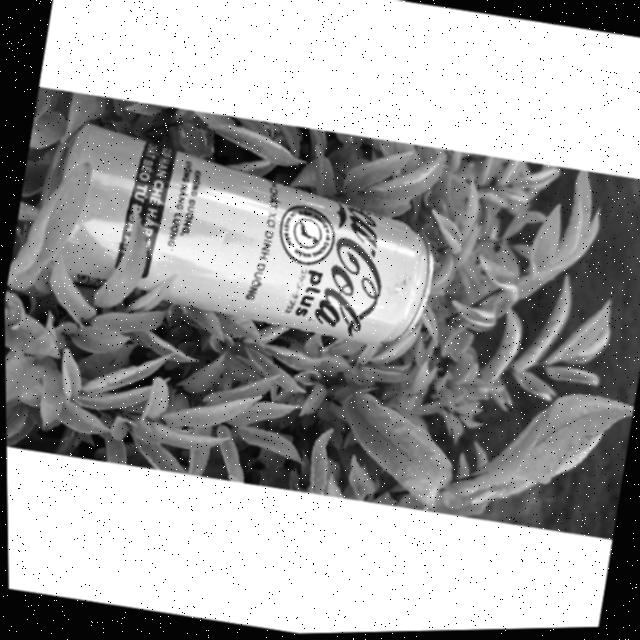Coca Cola Plus: (30, 117, 445, 365)
